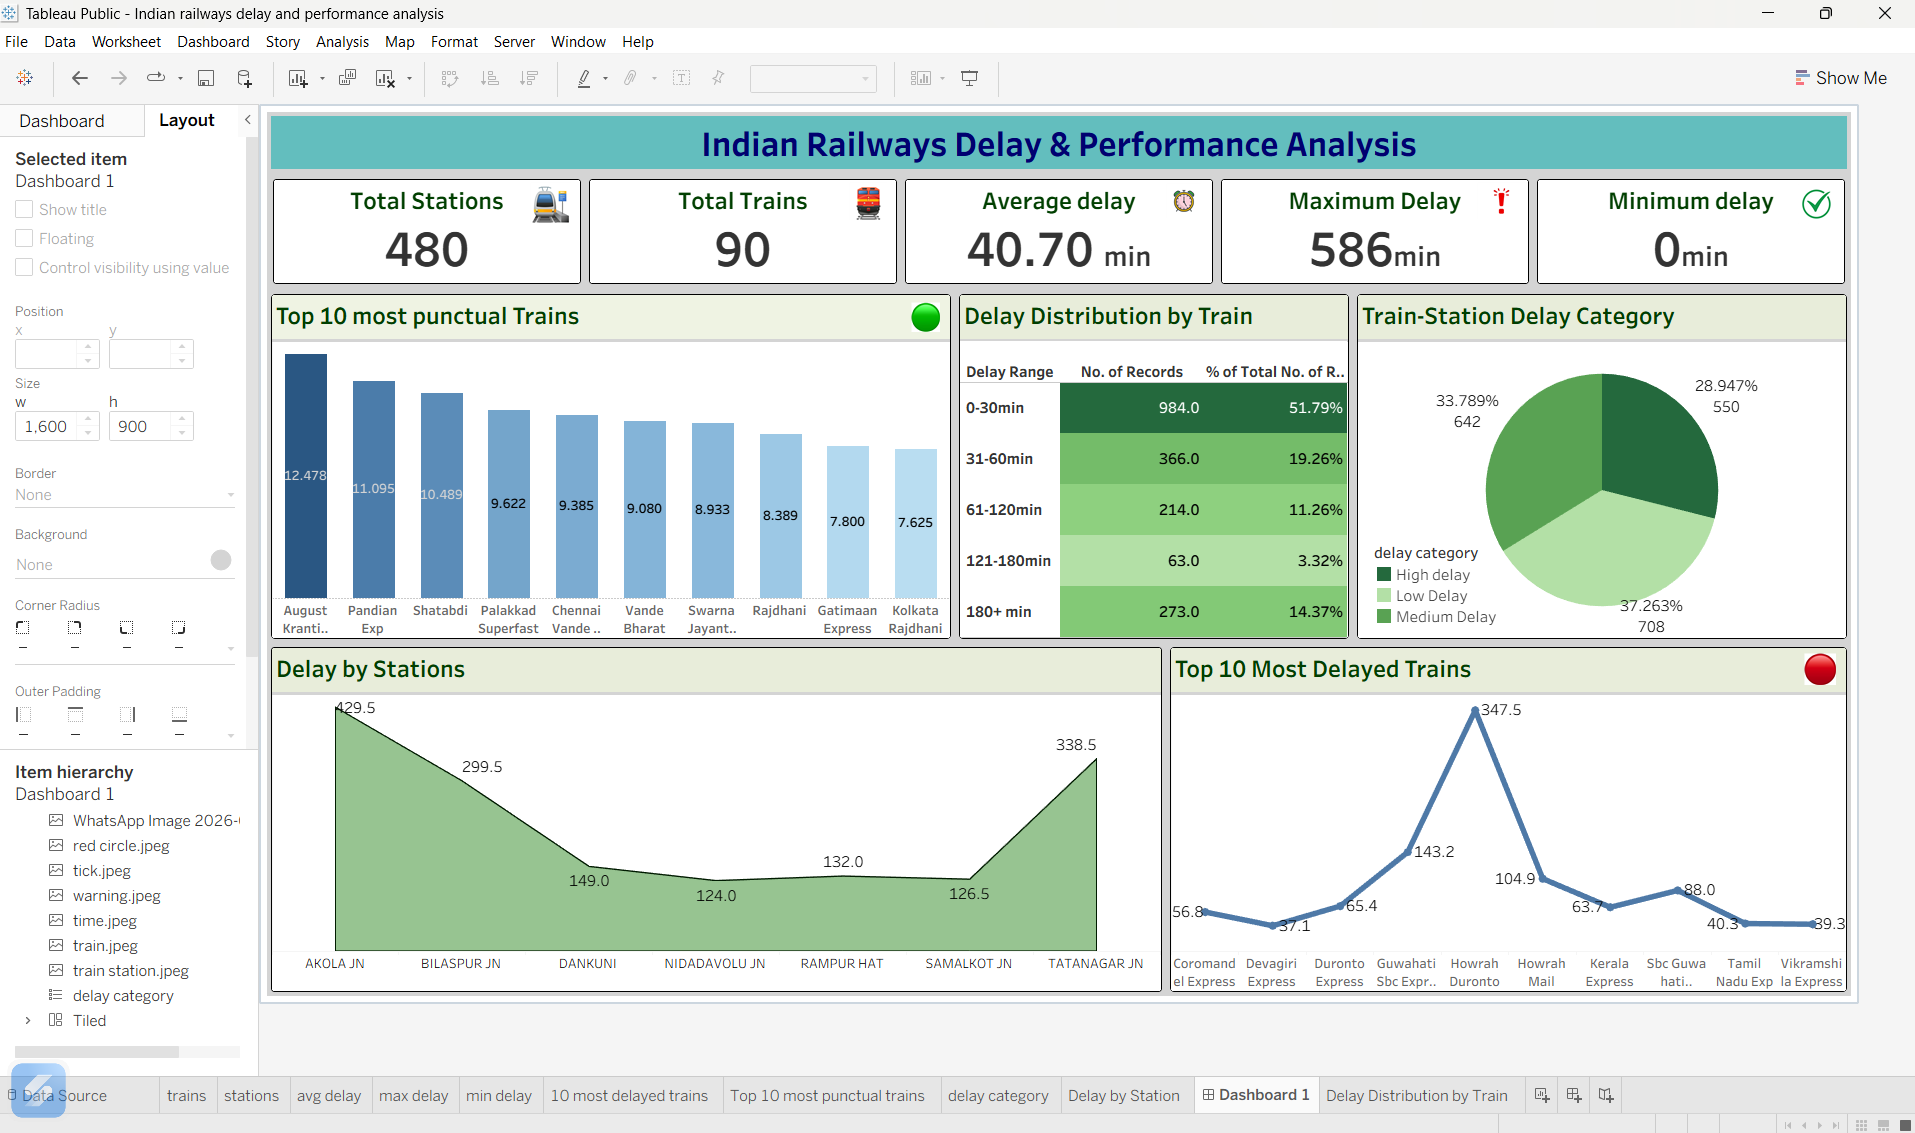

What the dashboard file says about the page in this screenshot:
{"tool":"tableau","page":{"name":"Dashboard 1","canvas":[1600,900],"ordinal":0},"visuals":[{"type":"title","box":[8,8,1584,61]},{"type":"worksheet","title":"stations","mark":"Automatic","box":[10,71,316,113]},{"type":"worksheet","title":"trains","mark":"Automatic","box":[326,71,316,113]},{"type":"worksheet","title":"avg delay","mark":"Automatic","box":[642,71,316,113]},{"type":"worksheet","title":"max delay","mark":"Automatic","box":[958,71,316,113]},{"type":"worksheet","title":"min delay","mark":"Automatic","box":[1274,71,316,113]},{"type":"image","param":"C:/Users/lodhd/OneDrive/Documents/train station.jpeg","box":[264,78,55,41]},{"type":"image","param":"C:/Users/lodhd/OneDrive/Documents/train.jpeg","box":[590,78,45,38]},{"type":"image","param":"C:/Users/lodhd/OneDrive/Documents/warning.jpeg","box":[1218,78,48,43]},{"type":"image","param":"C:/Users/lodhd/OneDrive/Documents/time.jpeg","box":[907,79,44,35]},{"type":"image","param":"C:/Users/lodhd/OneDrive/Documents/tick.jpeg","box":[1539,79,38,41]},{"type":"worksheet","title":"Top 10 most punctual trains","mark":"Bar","rows":["average_delay_minutes"],"cols":["train_name"],"box":[8,186,688,353]},{"type":"worksheet","title":"Delay Distribution by Train","mark":"Square","rows":["Calculation_0049240672165888"],"box":[696,186,398,353]},{"type":"worksheet","title":"delay category","mark":"Pie","box":[1094,186,498,353]},{"type":"image","param":"C:/Users/lodhd/OneDrive/Documents/WhatsApp Image 2026-08-24 at 10.44.07 AM.jpeg","box":[652,198,36,30]},{"type":"legend","title":"delay category","param":"[federated.0zy351r12ilw5x10trtpm0om3u3l].[none:Calculation_1327697134239750:nk]","box":[1115,438,140,85]},{"type":"worksheet","title":"Delay by Station","mark":"Area","rows":["average_delay_minutes"],"cols":["station_name"],"box":[8,539,899,353]},{"type":"worksheet","title":"10 most delayed trains","mark":"Line","rows":["average_delay_minutes"],"cols":["train_name"],"box":[907,539,685,353]},{"type":"image","param":"C:/Users/lodhd/OneDrive/Documents/red circle.jpeg","box":[1545,549,32,33]}]}

Visuals, with their boxes on the page's 1600x900 design canvas (x1, y1, x2, y2). These are canvas units, not pixel positions in the 1915x1133 screenshot, which may show the page scaled, cropped or inside an application window:
title: locate(8, 8, 1592, 69)
"stations" worksheet: locate(10, 71, 326, 184)
"trains" worksheet: locate(326, 71, 642, 184)
"avg delay" worksheet: locate(642, 71, 958, 184)
"max delay" worksheet: locate(958, 71, 1274, 184)
"min delay" worksheet: locate(1274, 71, 1590, 184)
image: locate(264, 78, 319, 119)
image: locate(590, 78, 635, 116)
image: locate(1218, 78, 1266, 121)
image: locate(907, 79, 951, 114)
image: locate(1539, 79, 1577, 120)
"Top 10 most punctual trains" worksheet (Bar marks): locate(8, 186, 696, 539)
"Delay Distribution by Train" worksheet (Square marks): locate(696, 186, 1094, 539)
"delay category" worksheet (Pie marks): locate(1094, 186, 1592, 539)
image: locate(652, 198, 688, 228)
"delay category" legend: locate(1115, 438, 1255, 523)
"Delay by Station" worksheet (Area marks): locate(8, 539, 907, 892)
"10 most delayed trains" worksheet (Line marks): locate(907, 539, 1592, 892)
image: locate(1545, 549, 1577, 582)
